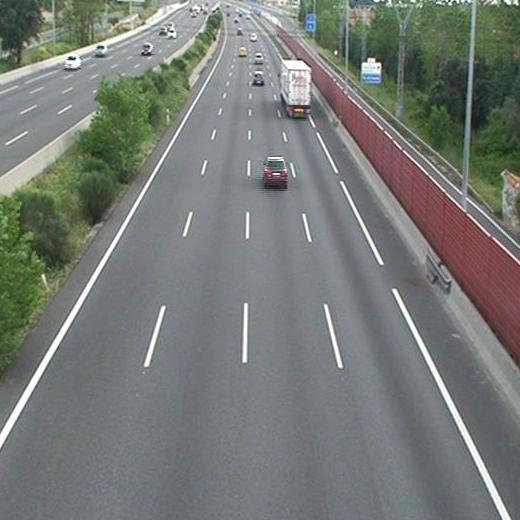car: (264, 157, 287, 184), (252, 71, 265, 85), (253, 53, 263, 65), (238, 48, 247, 56)
truck: (282, 60, 312, 117)
